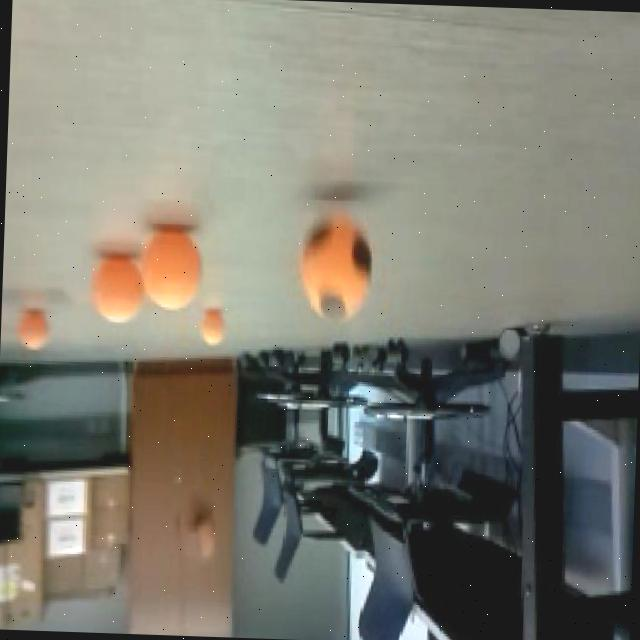ping-pong-ball: (297, 212, 377, 324), (138, 224, 202, 316), (90, 257, 143, 328), (14, 300, 48, 358), (199, 312, 226, 348)
